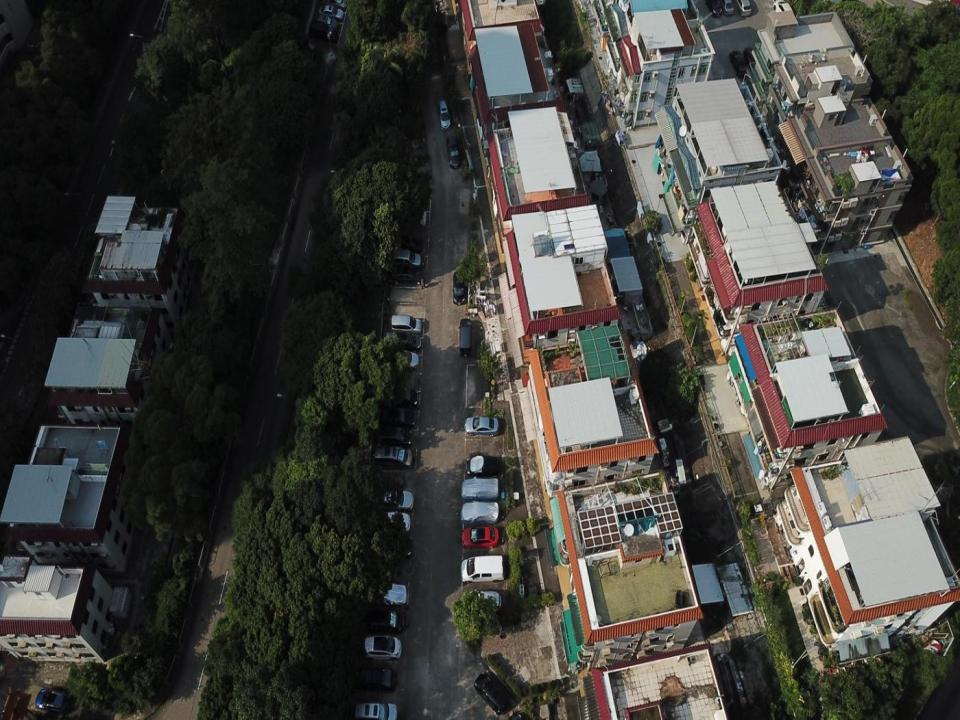car: (474, 672, 508, 716), (355, 666, 396, 694), (34, 687, 72, 716), (374, 532, 413, 559), (364, 609, 405, 634), (368, 581, 408, 606), (460, 476, 499, 501), (462, 589, 502, 613), (364, 636, 402, 661), (375, 488, 414, 512), (460, 500, 499, 524), (461, 525, 498, 550), (355, 698, 398, 719), (374, 510, 410, 533), (466, 454, 501, 477), (464, 415, 500, 437), (381, 408, 416, 430), (386, 350, 420, 372), (379, 426, 412, 448), (387, 266, 425, 285), (308, 20, 338, 44), (385, 387, 419, 408), (390, 314, 422, 336), (392, 330, 422, 352), (391, 248, 422, 268), (728, 50, 750, 77), (395, 234, 423, 254), (446, 135, 462, 169), (771, 0, 794, 23), (314, 13, 340, 32), (318, 4, 344, 21), (452, 272, 465, 306), (438, 98, 450, 130), (743, 46, 759, 68), (703, 0, 722, 18), (733, 0, 751, 17), (720, 0, 734, 16)
van: (460, 554, 504, 584), (373, 444, 412, 471), (458, 318, 473, 357)
